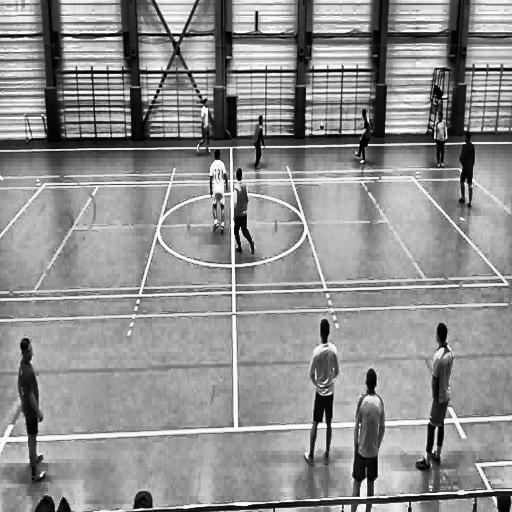ball: (319, 121, 326, 131)
player: (415, 322, 454, 474), (344, 367, 384, 512), (303, 315, 338, 469), (16, 332, 48, 488), (232, 169, 259, 257), (208, 148, 230, 236), (456, 130, 477, 212), (354, 106, 376, 169), (196, 96, 213, 156), (249, 114, 267, 170), (432, 110, 449, 168)
